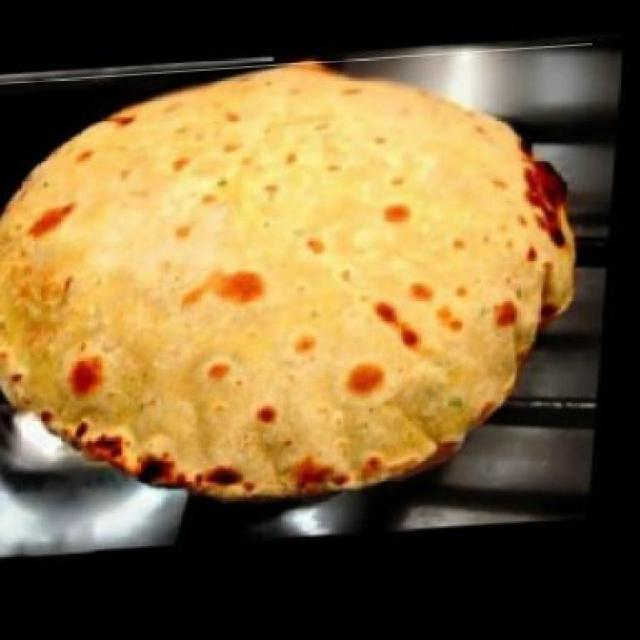chapati: (0, 52, 595, 515)
